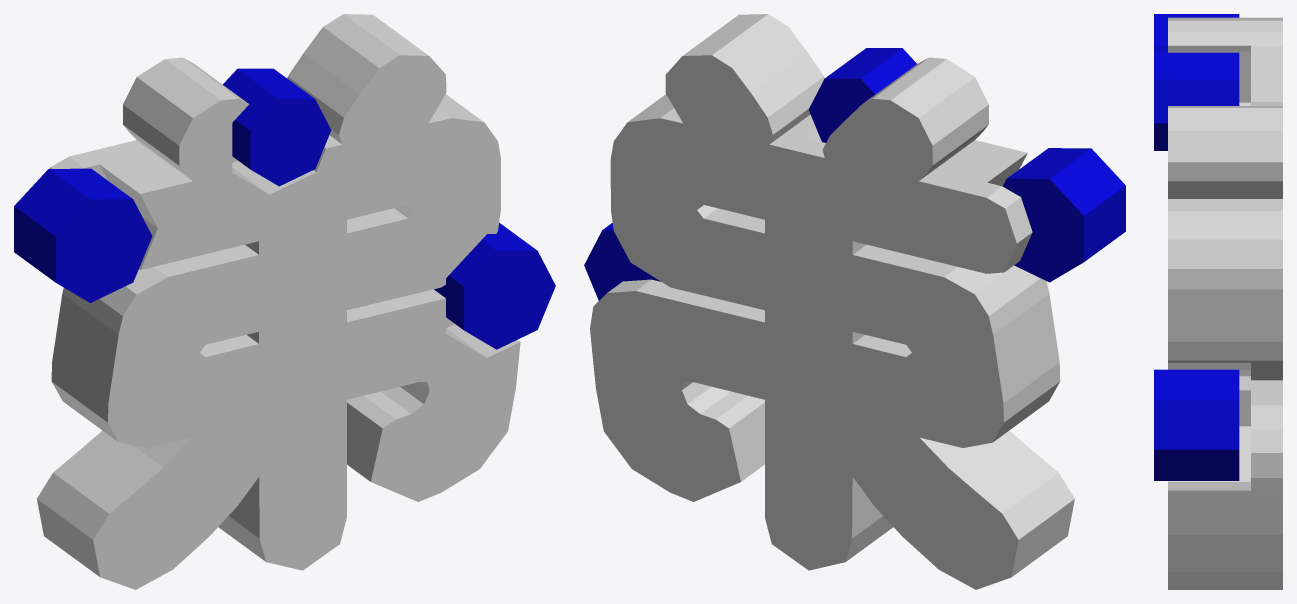
File: Ch_Lite_China_弟_01.fbx
3 views of the same model, side by side, from view 1: azimuth 30°, elevation 25°; view 2: azimuth 150°, elevation 25°; view 3: azimuth 270°, elevation 25° (orthographic).
Visible parts, largest first — view 1: sphere1; view 2: sphere1; view 3: sphere1.
Boxes of the visible parts, x1,y1,x2,y2 form: sphere1: (14, 14, 555, 589); sphere1: (584, 14, 1125, 589); sphere1: (1154, 14, 1282, 589).
Bounding box in the file's own units: 1.02 × 0.9629 × 0.2242.
